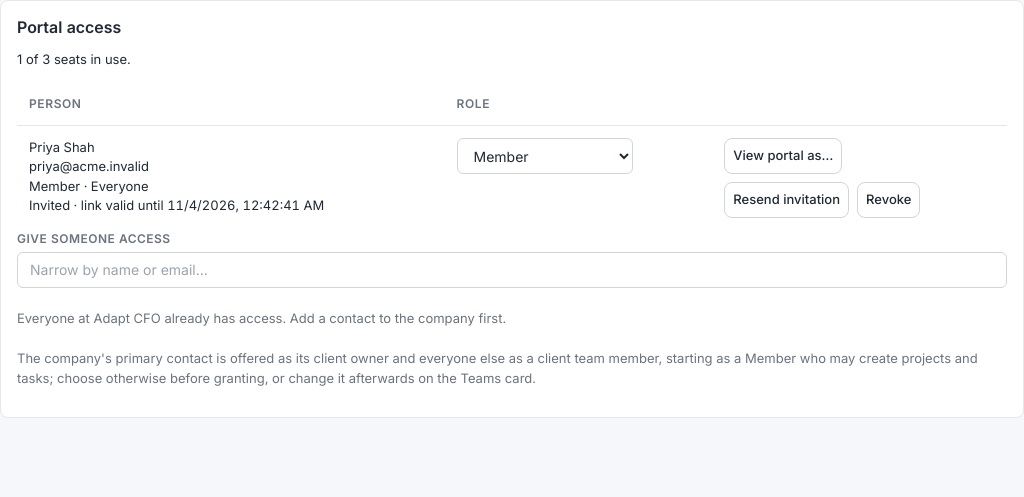
Test case: Resend invitation, on a portal-access row › sends a fresh invitation to that person and says how long it lasts
This screenshot has width=1024, height=497.
Click the button "Resend invitation" at coordinates (787, 200), box [724,182,849,218]
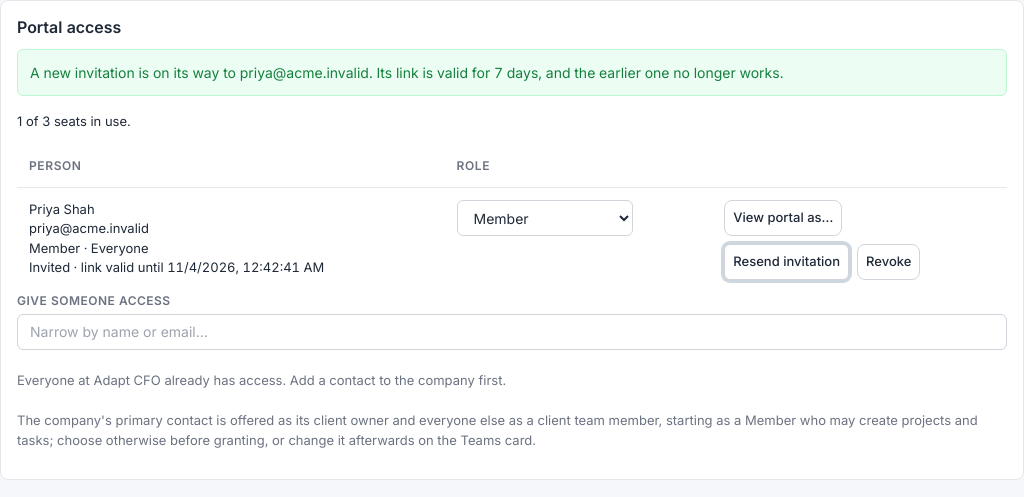
Now the text "A new invitation is on its way to priya@acme.invalid. Its link is valid for 7 days" is shown, box [30,64,784,81]
